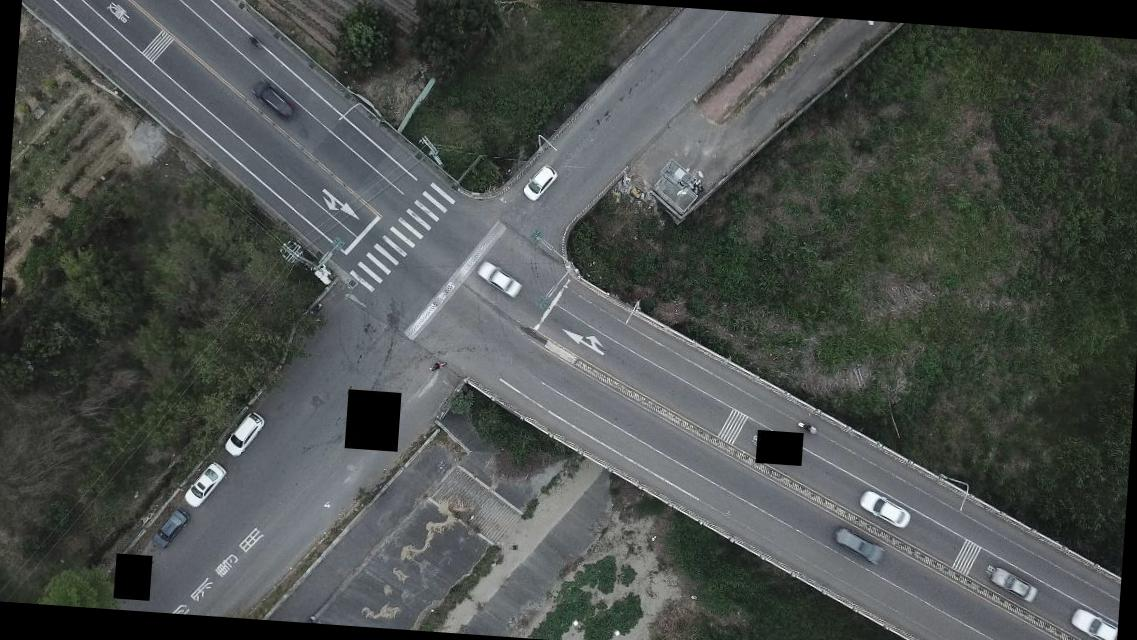vehicle: (182, 458, 224, 511), (224, 410, 266, 459), (857, 490, 910, 528), (473, 260, 524, 298), (832, 528, 884, 563), (149, 506, 188, 552), (248, 79, 292, 118), (1070, 606, 1119, 639), (990, 568, 1038, 601), (520, 162, 558, 202)
